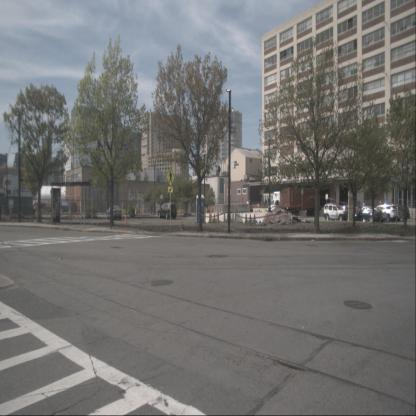movable_object-trafficcone: (180, 215, 184, 231), (124, 215, 127, 224)
vehicle-car: (352, 206, 382, 223), (323, 203, 348, 222), (373, 204, 399, 222), (362, 207, 388, 223), (382, 204, 404, 222), (388, 205, 410, 222), (158, 203, 177, 219), (106, 205, 122, 220)
vehicle-truck: (267, 191, 299, 216)
